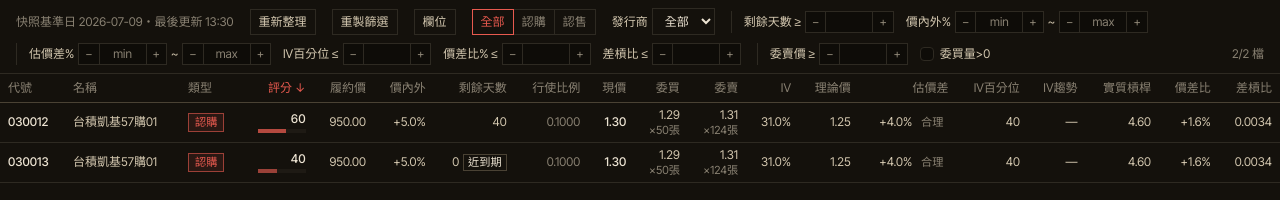
Scenario: WarrantSelector 篩選列改造(mod warrant-ux-feedback item 4) › stepper 調值會真的過濾(filters state 同步)
Expected: the number of rows with test id "warrant-row" is 2, [0,102,1279,142]; [0,142,1279,182]
Step 1. Click the button named "剩餘天數下限 增加" → coordinates (883, 22), box [873,12,893,32]
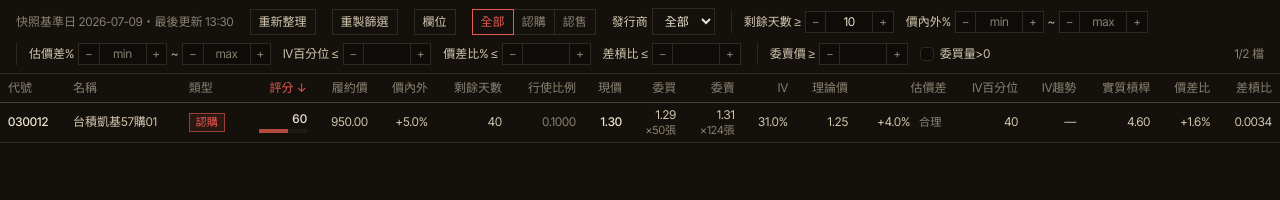
Now the number of rows with test id "warrant-row" is 1, box [0,102,1279,142]
